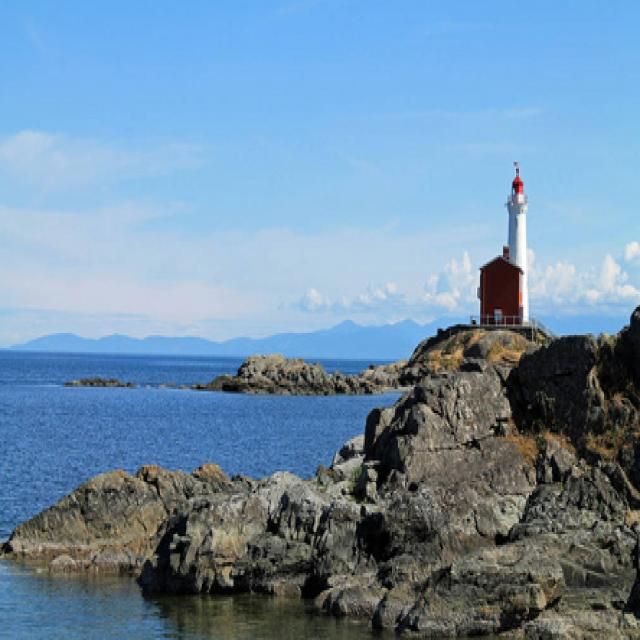reef: (30, 439, 552, 640), (70, 356, 421, 392)
